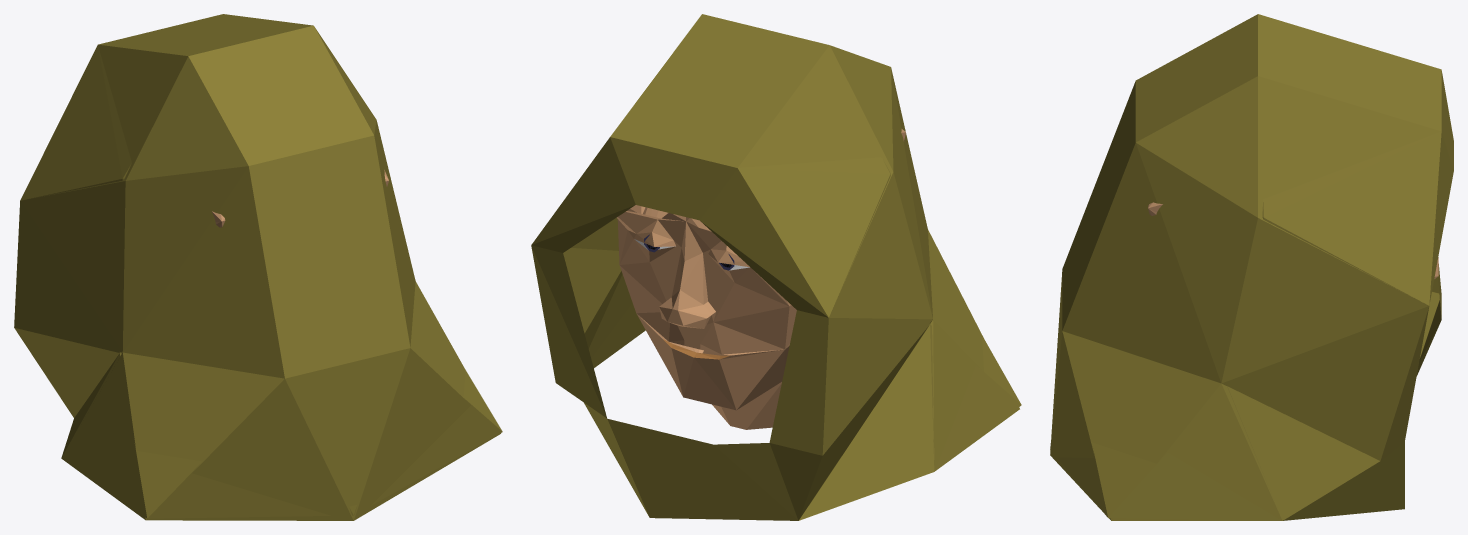
Rendered from npc_chat_hazeel_cultist_0.obj.
The picture shows the model from 3 angles, left to right: view 1: azimuth 30°, elevation 25°; view 2: azimuth 150°, elevation 25°; view 3: azimuth 270°, elevation 25°; orthographic projection.
Size of the model in its own units: 1.06 by 1.25 by 1.03.
